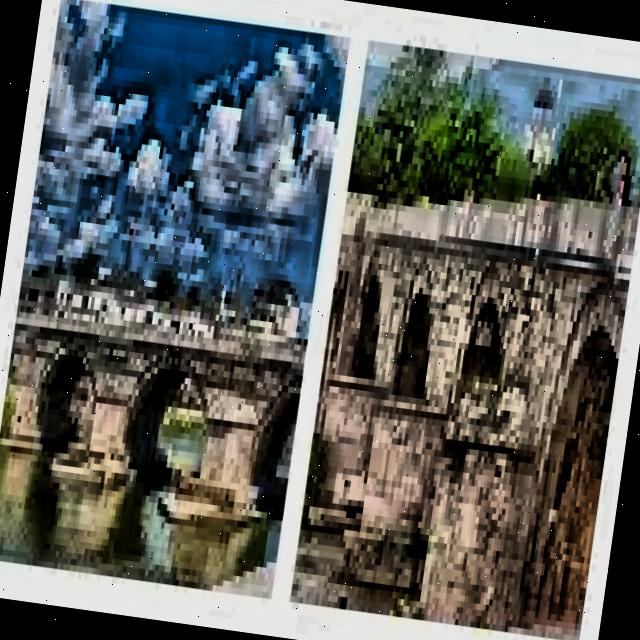stone bridge: (290, 131, 640, 639), (0, 293, 311, 489)
